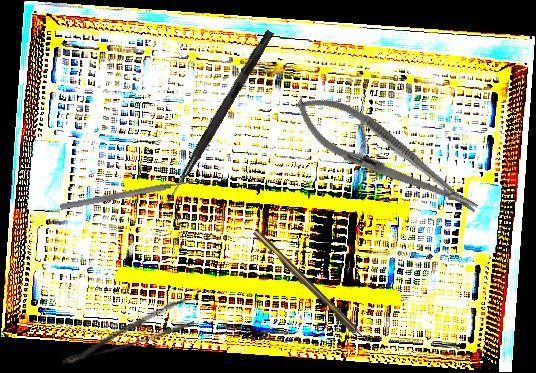Dressing Forceps: (54, 297, 196, 368)
Hook Surgical: (160, 28, 275, 213), (252, 228, 376, 352)
Needle Holder: (284, 81, 489, 232)
Pusher: (59, 175, 205, 212)
